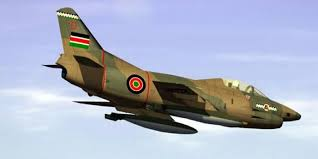fighter: (42, 5, 305, 138)
